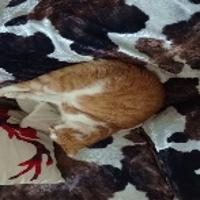asleep: (0, 59, 164, 157)
